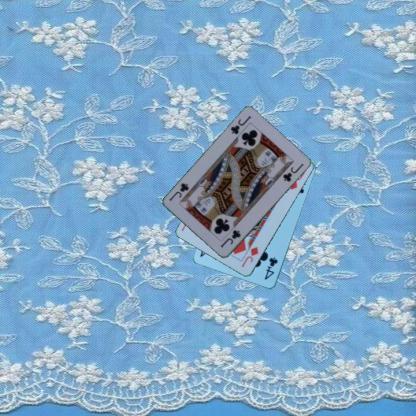4c: (262, 255, 279, 281)
Jc: (226, 113, 252, 136), (218, 227, 242, 249)
Jd: (240, 244, 260, 268)
